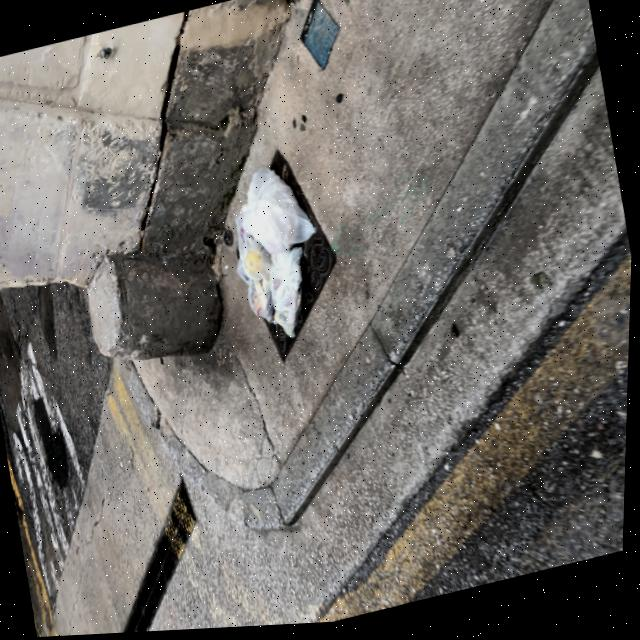Organic Waste -White Bag-: (238, 162, 324, 264), (228, 210, 289, 337), (265, 247, 318, 348)
